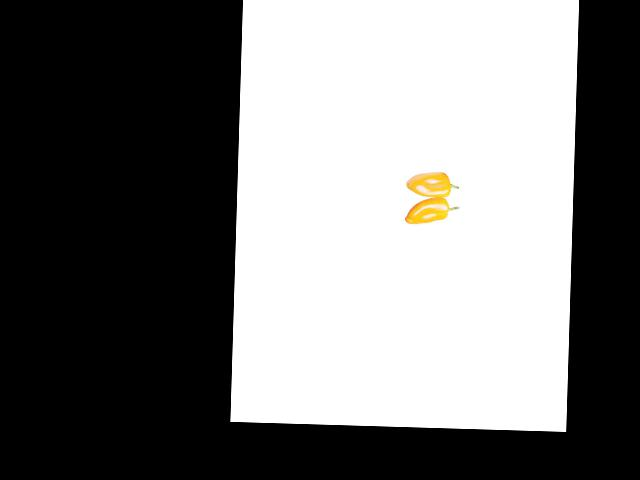bell_pepper: (395, 165, 460, 199)
